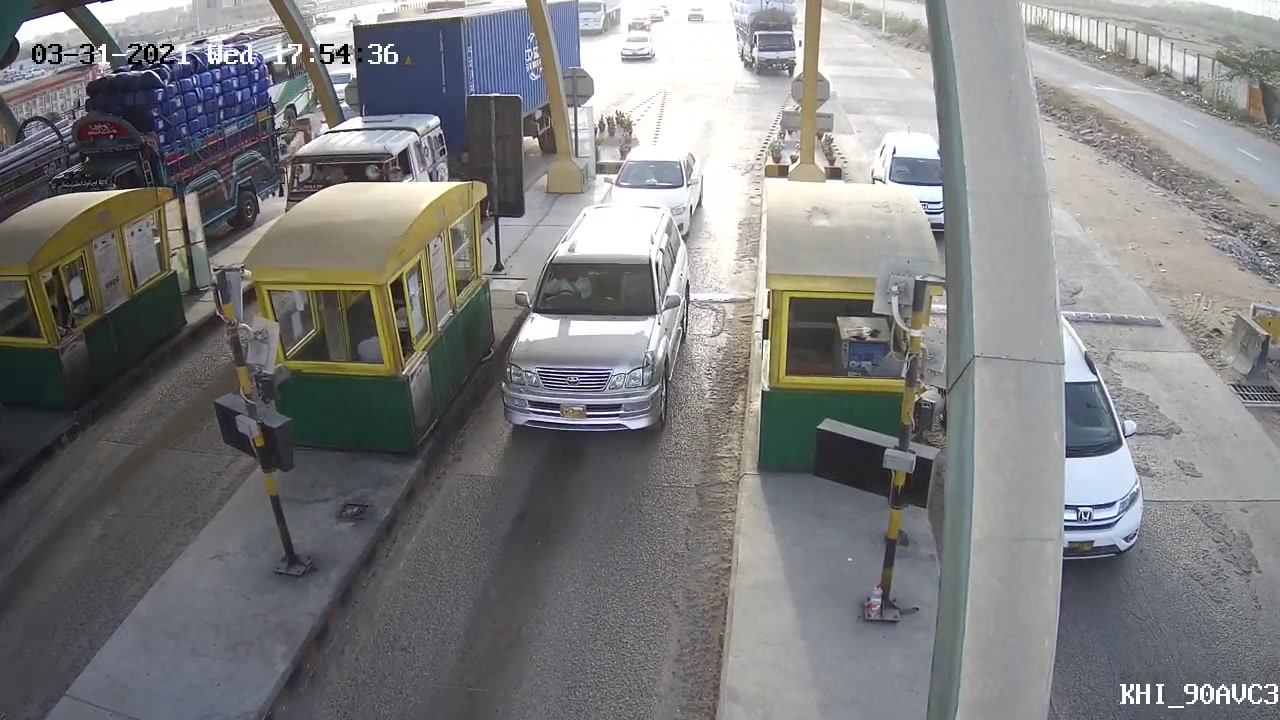F1: (485, 199, 692, 439)
